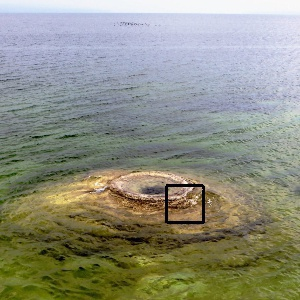square: (163, 182, 206, 226)
